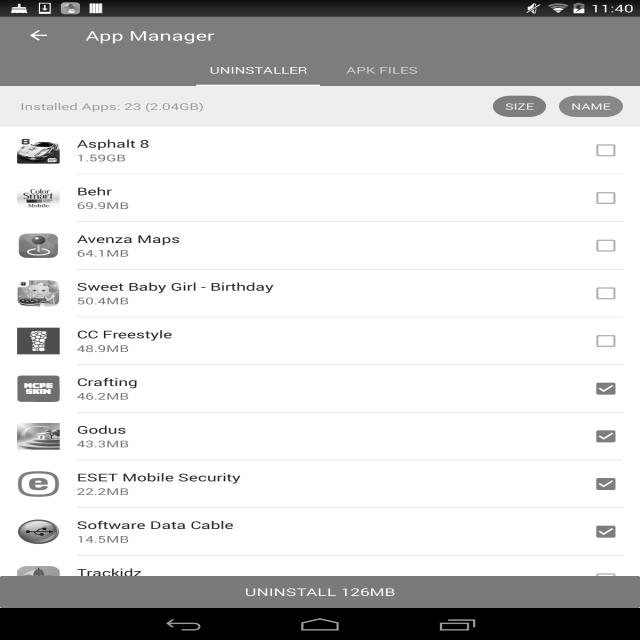Button: (559, 96, 623, 117), (493, 96, 546, 117)
CheckBox: (589, 187, 623, 209), (589, 330, 623, 352), (589, 473, 623, 495), (589, 140, 623, 161), (589, 235, 623, 256), (589, 283, 623, 304), (589, 378, 623, 399), (589, 426, 623, 447), (589, 521, 623, 542), (589, 569, 623, 590)
ImageButton: (9, 17, 68, 54)
ImageView: (17, 137, 60, 164), (17, 232, 60, 259), (17, 280, 60, 307), (17, 375, 60, 402), (17, 423, 60, 450), (17, 518, 60, 545), (17, 566, 60, 593), (17, 185, 60, 211), (17, 328, 60, 354), (17, 471, 60, 497), (77, 221, 623, 222), (77, 269, 623, 270), (77, 364, 623, 365), (77, 412, 623, 413), (77, 507, 623, 508), (77, 555, 623, 556), (77, 174, 623, 174), (77, 317, 623, 317), (77, 460, 623, 460)
TextView: (77, 136, 572, 151), (77, 279, 572, 294), (77, 422, 572, 437), (77, 565, 572, 580), (77, 184, 572, 198), (77, 198, 572, 212), (77, 232, 572, 246), (77, 327, 572, 341), (77, 341, 572, 355), (77, 375, 572, 389), (77, 470, 572, 484), (77, 484, 572, 498), (77, 518, 572, 532), (77, 151, 572, 164), (77, 246, 572, 259), (77, 294, 572, 307), (77, 389, 572, 402), (77, 437, 572, 450), (77, 532, 572, 545), (77, 580, 572, 593), (17, 90, 204, 122), (86, 26, 214, 44), (245, 585, 395, 599), (209, 64, 307, 76), (346, 64, 418, 76)
